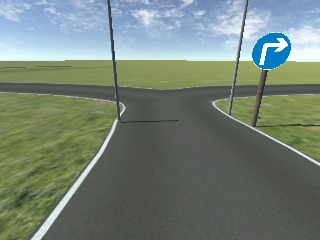right: (252, 32, 290, 70)
